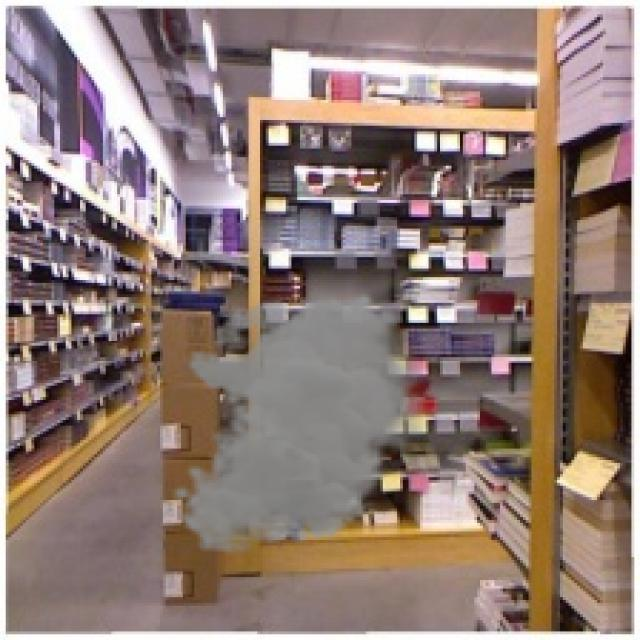Smoke: (172, 292, 438, 554)
